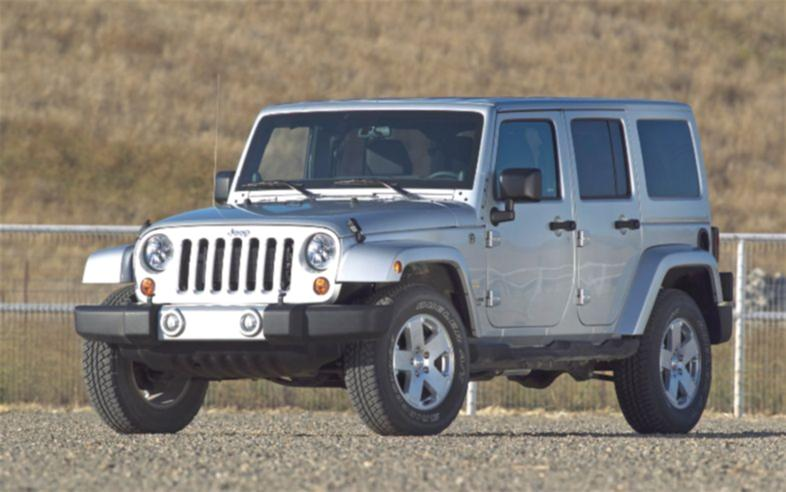jeep: (221, 224, 253, 244)
